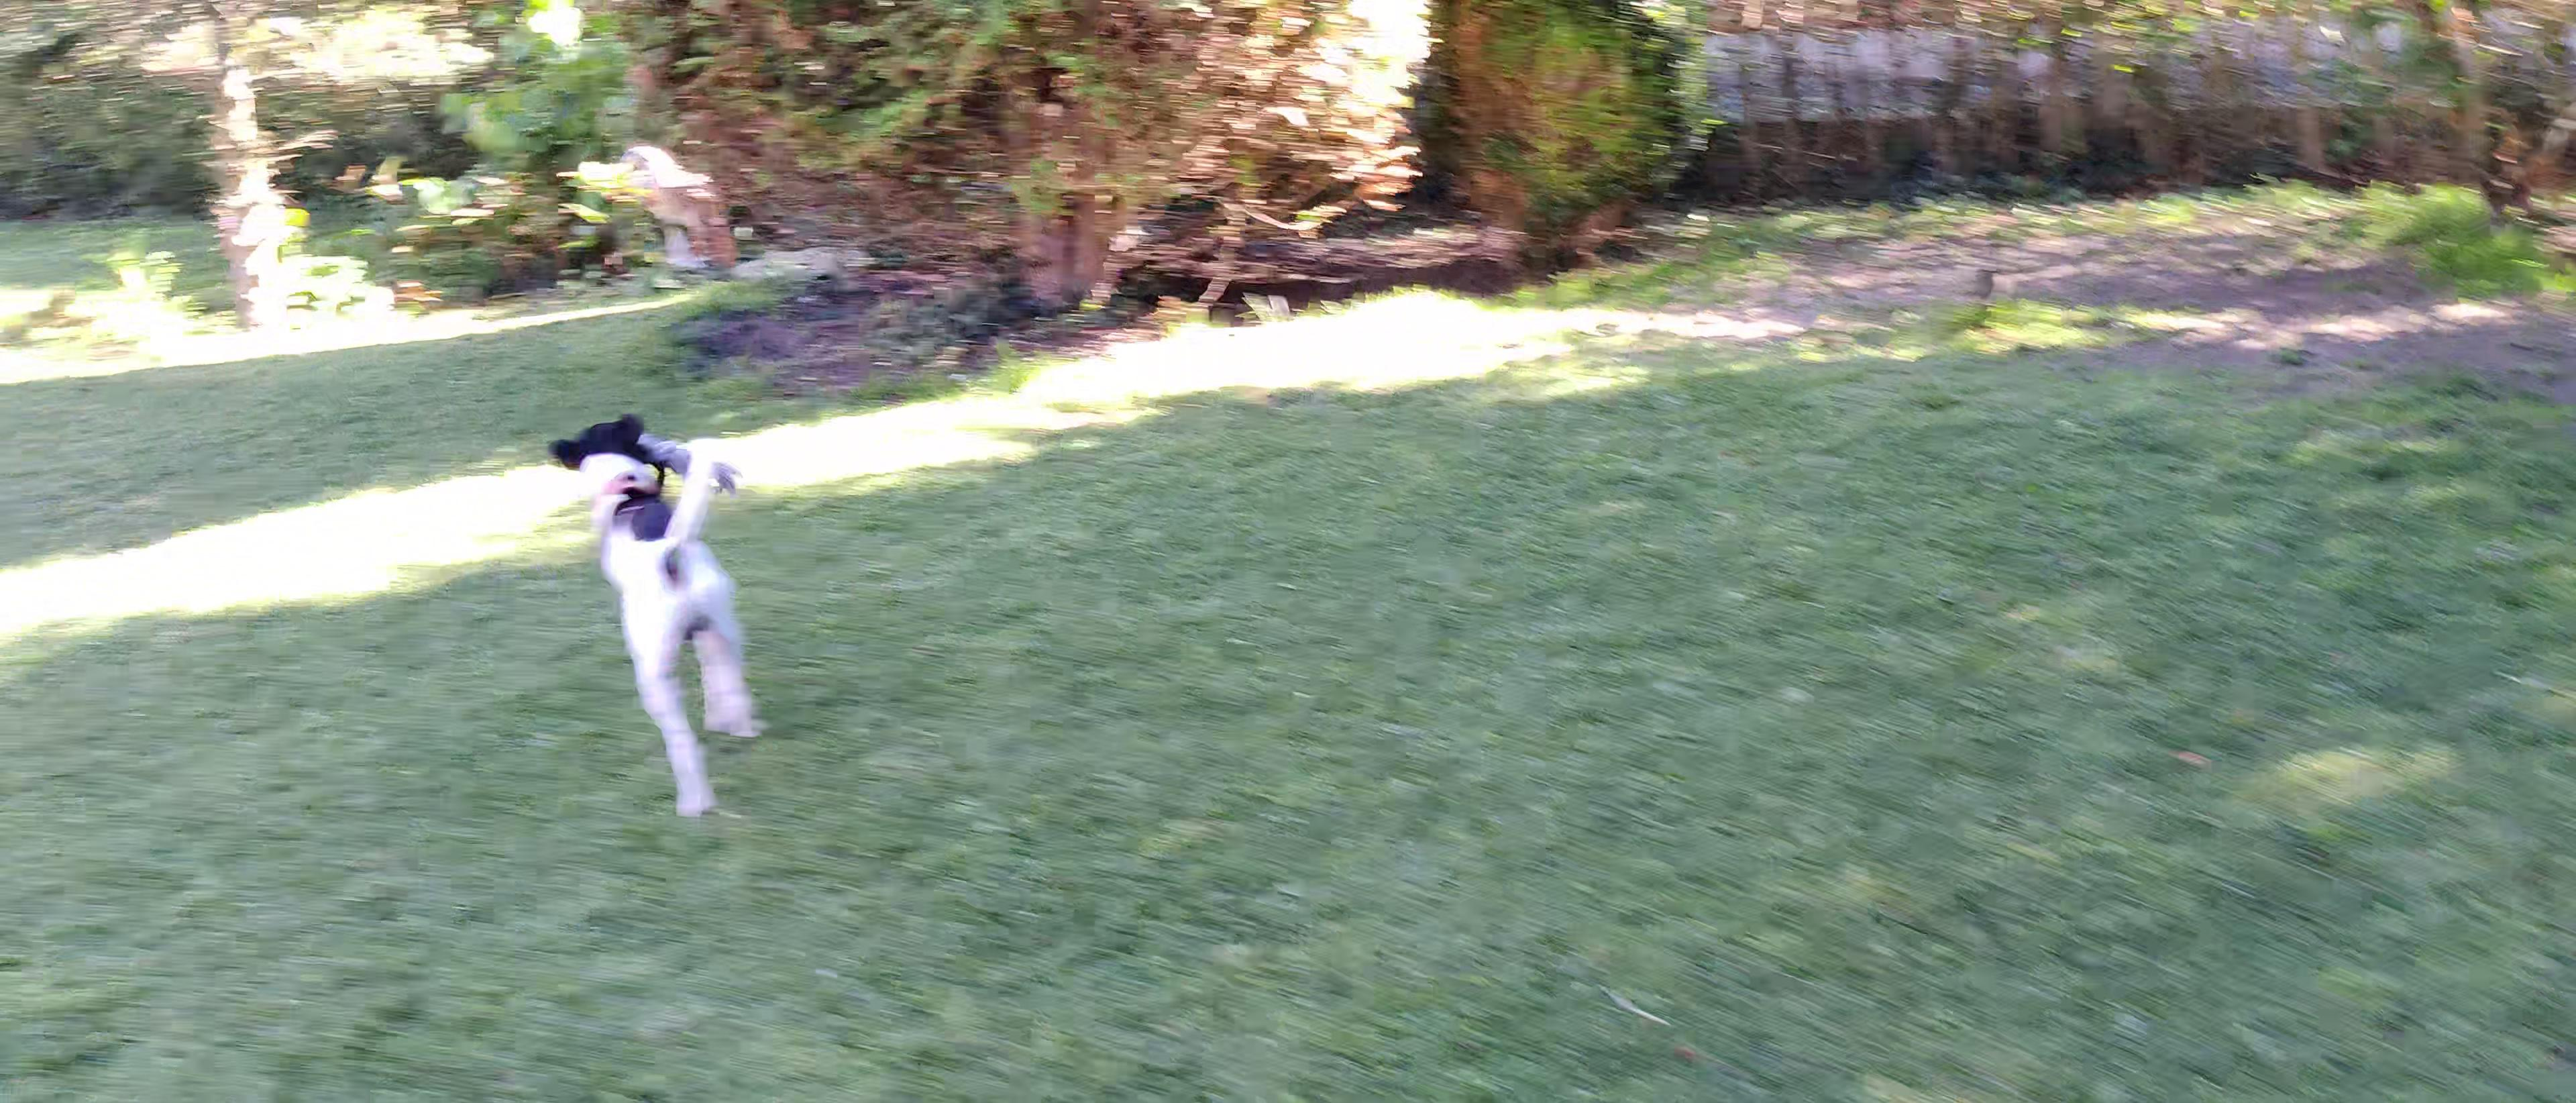Dog: (537, 386, 774, 815)
